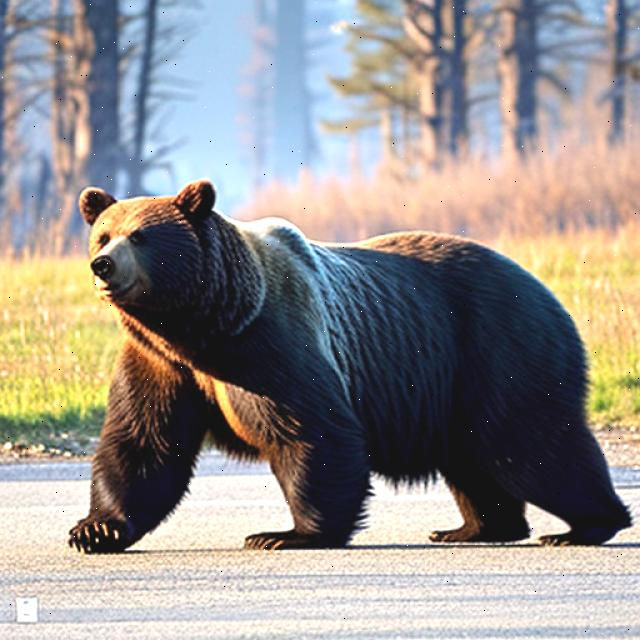bear: (74, 164, 330, 384)
